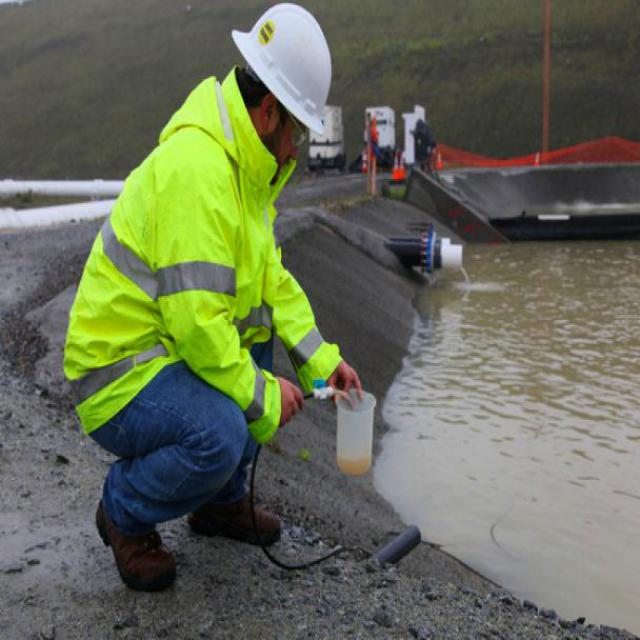helmet: (208, 0, 349, 135)
vest: (48, 130, 338, 458)
